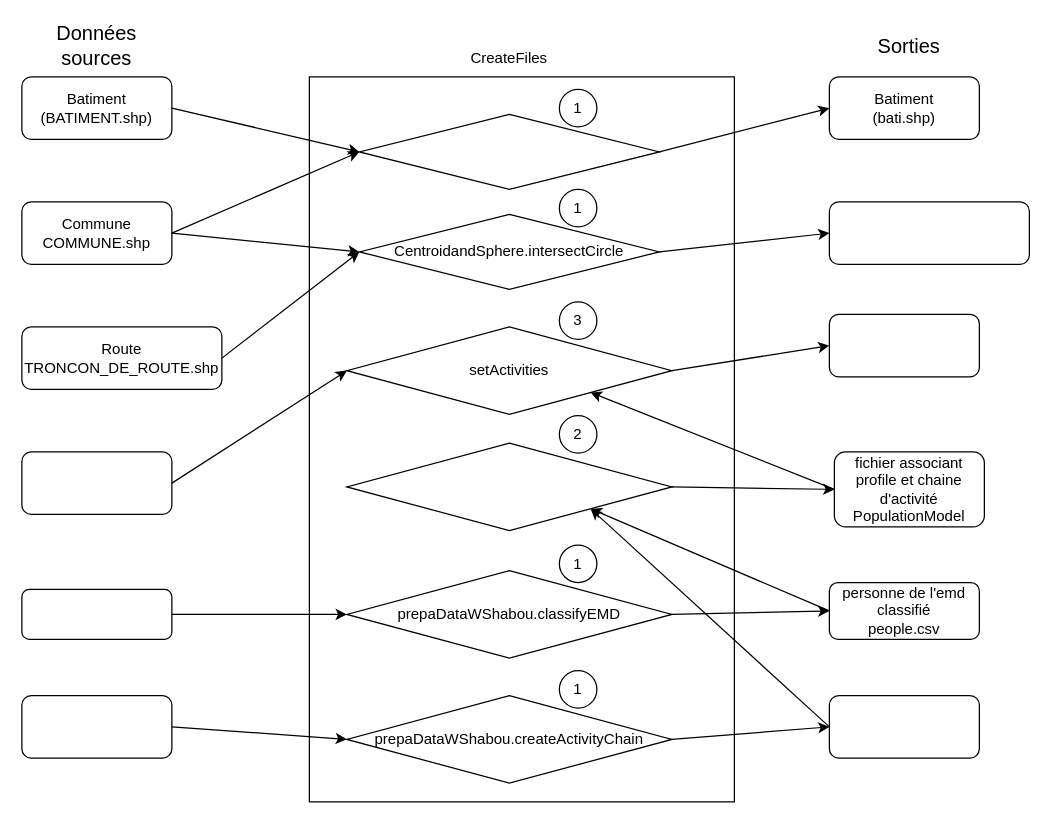
This 1051x824 diagram has some shape labels left out. Each missing label, with the box of its shape:
CentroidandSphere.normalise_bati: (358, 113, 659, 189)
EMD deplacement EMD_depl.csv: (21, 694, 172, 758)
EMD personne EMD_pers.csv: (21, 588, 172, 639)
liste des déplacement par individu depl.csv: (828, 694, 979, 758)
population population.csv: (21, 451, 172, 514)
population pour la simulation population.csv: (828, 313, 979, 377)
prepaDataWShabou.createModelPopulation: (346, 442, 672, 531)
Route roads.shp: (828, 201, 1029, 264)
